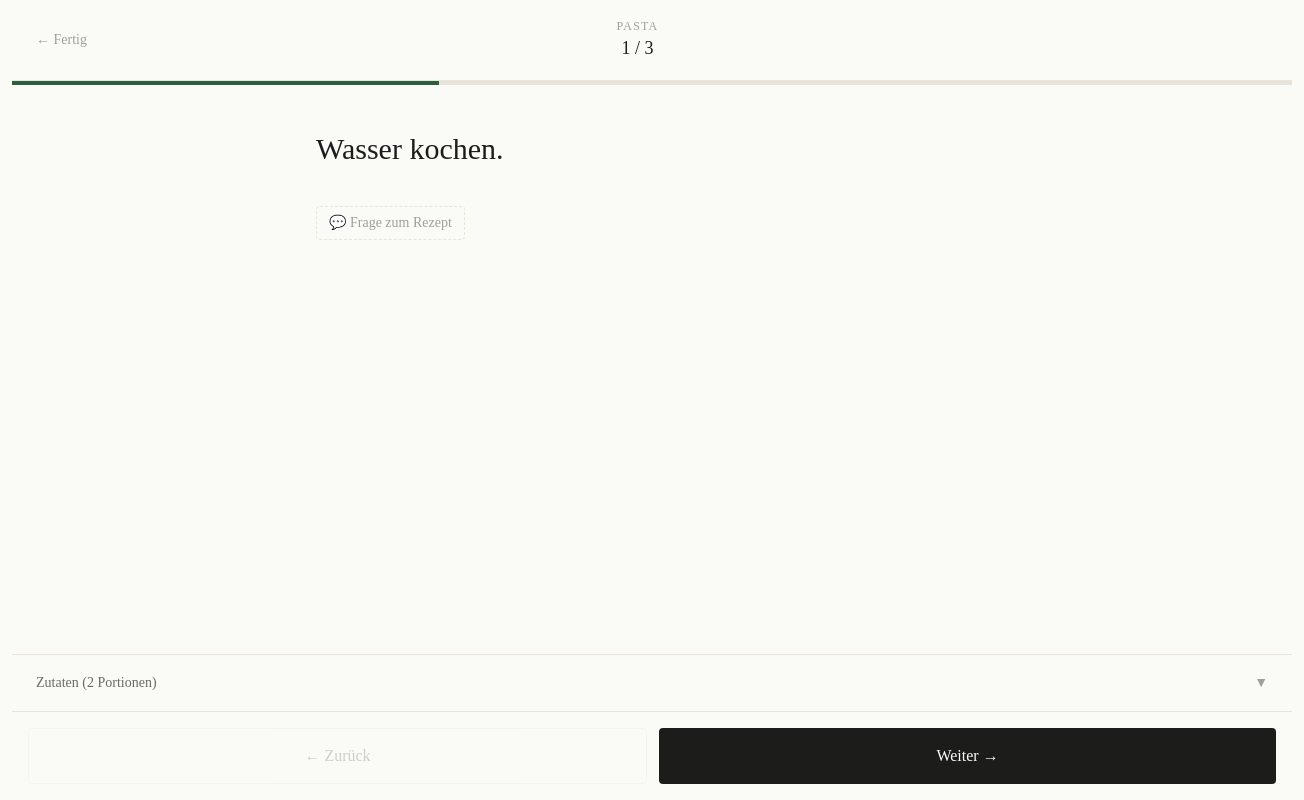
it: CookMode — persistent timer › counts down once started
Click the button "Weiter →". click: (968, 756)
box: [659,728,1276,784]
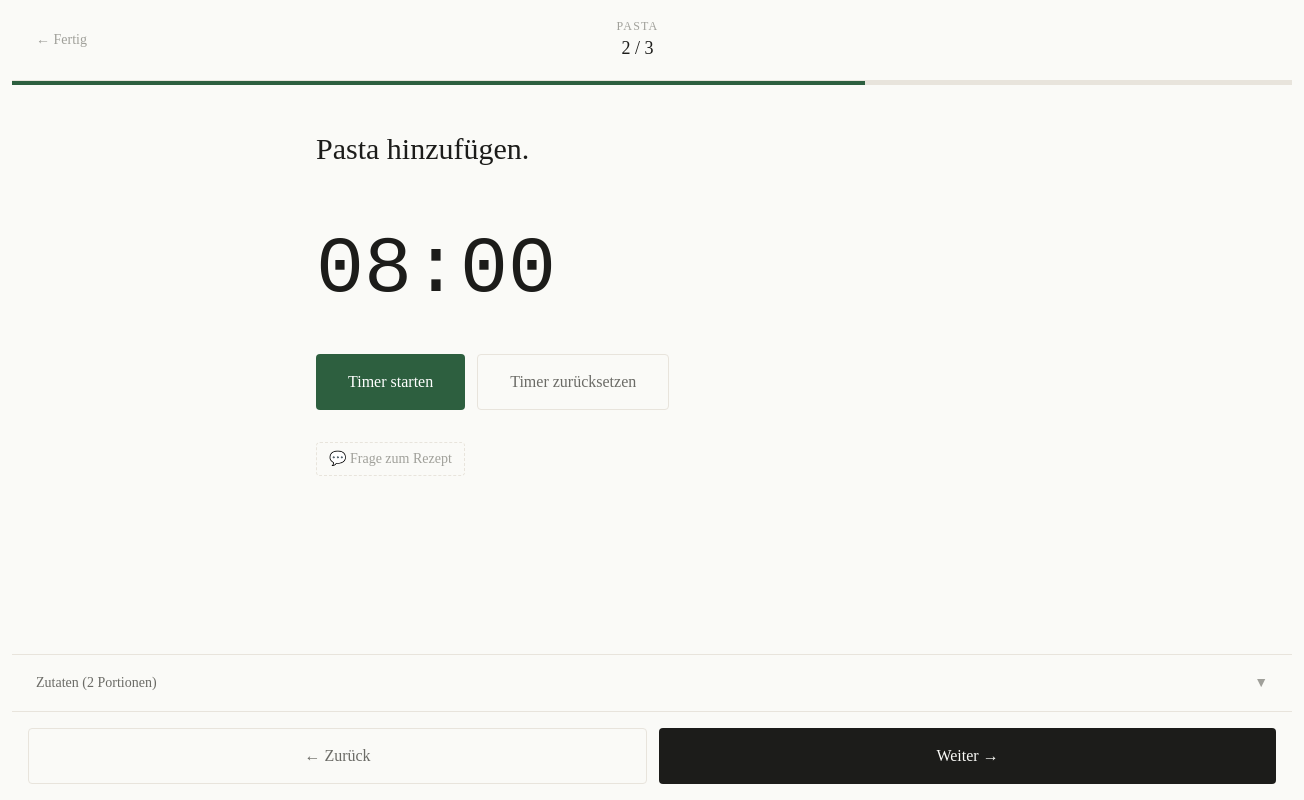
Click the button "Timer starten". click: (391, 382)
box: [316,354,465,410]
Wait 3000 ms
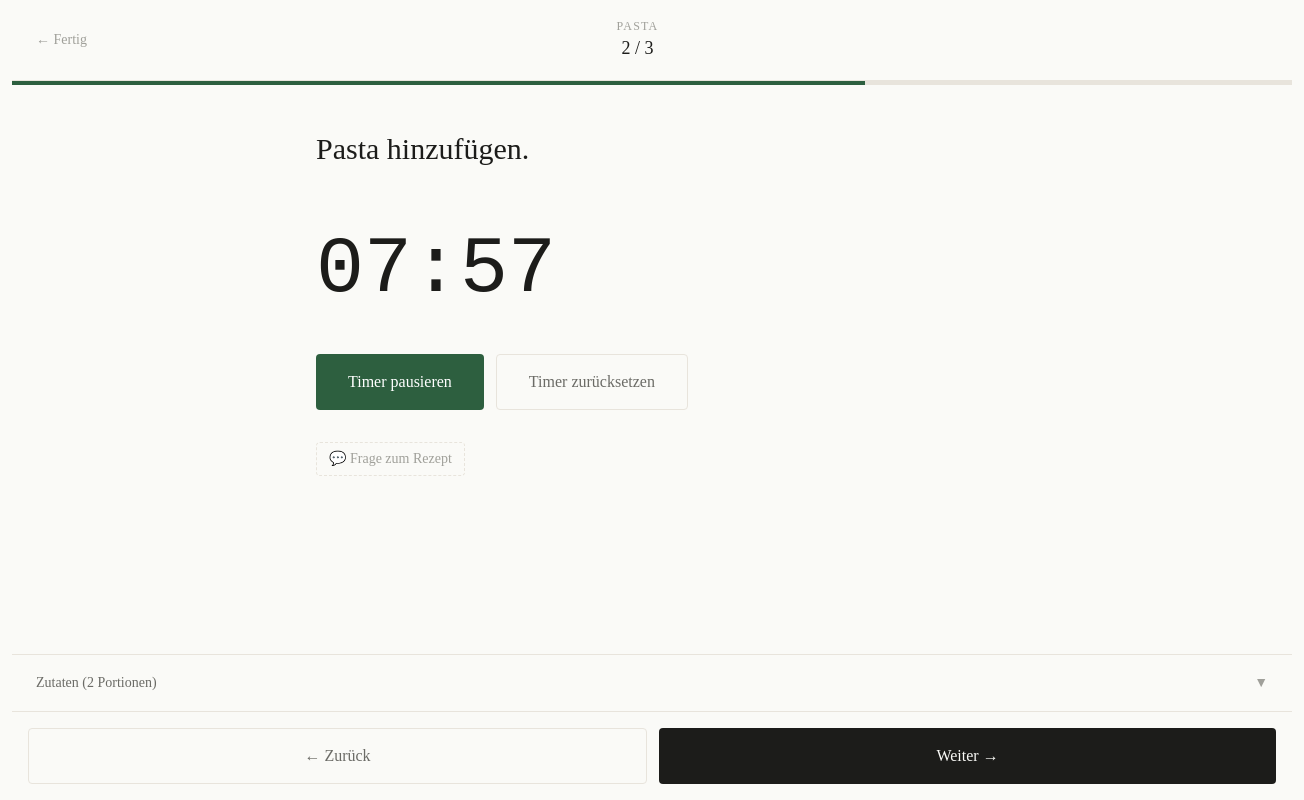
Expected: the button "Timer pausieren" is shown, [316,354,484,410]
Expected: the text "07:57" is shown, [316,224,556,315]
